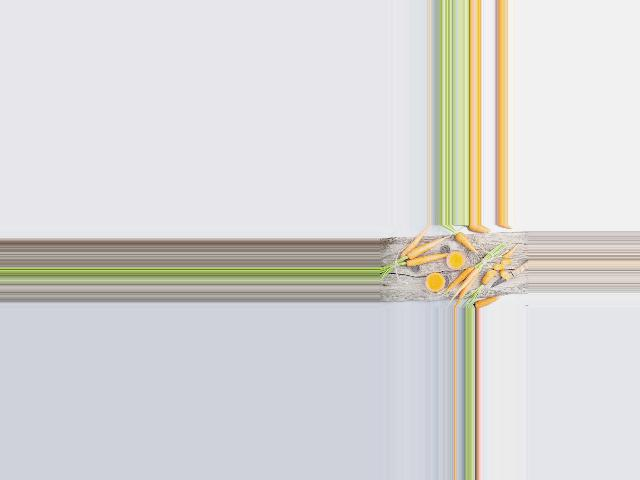carrot: (393, 226, 434, 259)
